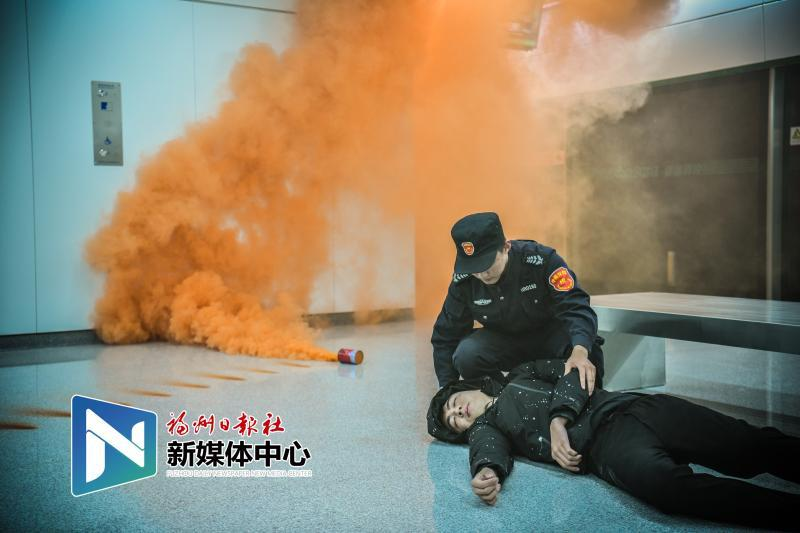smoke: (112, 225, 339, 365), (173, 85, 351, 210), (375, 43, 492, 177), (508, 113, 588, 221), (234, 12, 339, 71), (572, 1, 679, 49), (578, 65, 661, 119), (605, 197, 688, 245), (356, 238, 397, 330), (607, 134, 680, 179)
